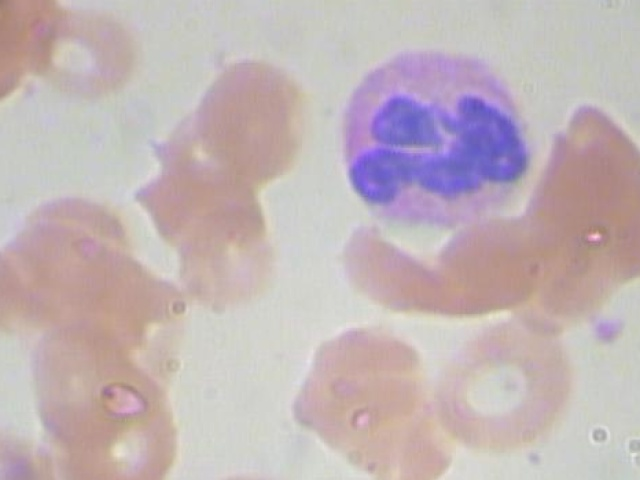Platelets: (585, 306, 631, 357)
RBC: (430, 301, 598, 453), (143, 167, 305, 321), (287, 314, 448, 465), (0, 177, 147, 331), (188, 33, 319, 191), (18, 309, 146, 456), (49, 354, 178, 480), (542, 85, 640, 242), (8, 2, 149, 103), (0, 0, 46, 111)
WBC: (310, 37, 557, 246)
